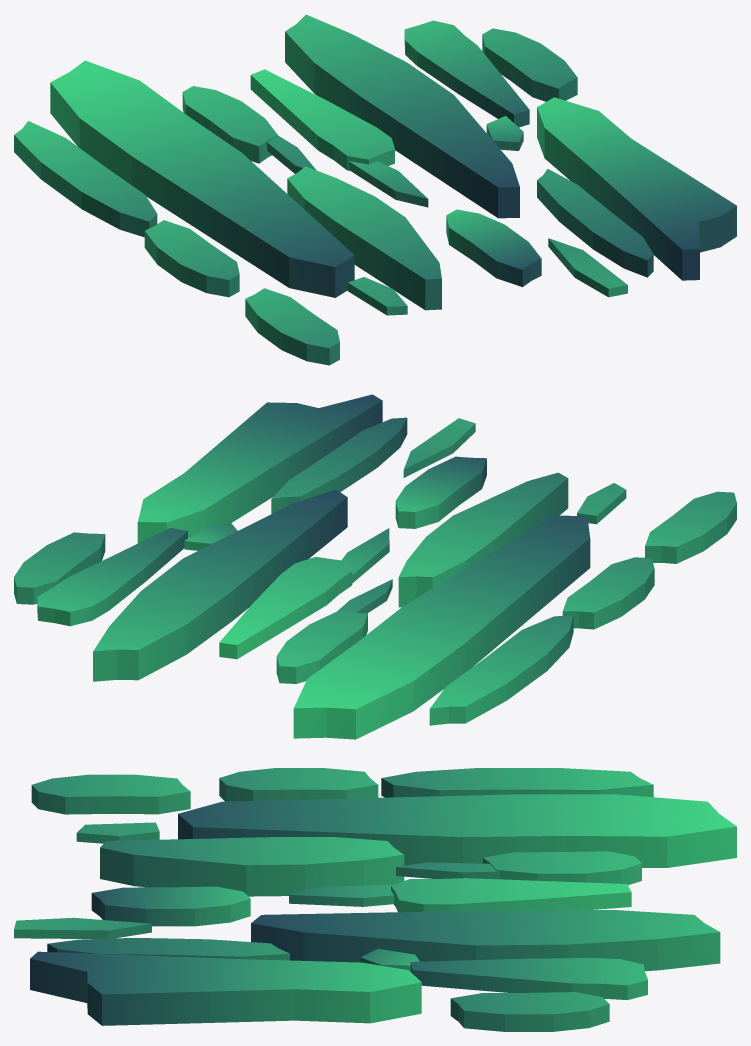
File: snailTrale.fbx
The picture shows the model from 3 angles, top to bottom: view 1: azimuth 30°, elevation 25°; view 2: azimuth 150°, elevation 25°; view 3: azimuth 270°, elevation 25°; orthographic projection. The views are drawn at different scales.
Parts seen in each view (by area): view 1: pCylinder34; view 2: pCylinder34; view 3: pCylinder34.
Boxes of the visible parts, left/top/right/bottom form: pCylinder34: left=14, top=14, right=736, bottom=365; pCylinder34: left=14, top=394, right=736, bottom=739; pCylinder34: left=14, top=768, right=736, bottom=1031.
Bounding box in the file's own units: 74.47 × 4.49 × 92.36.
